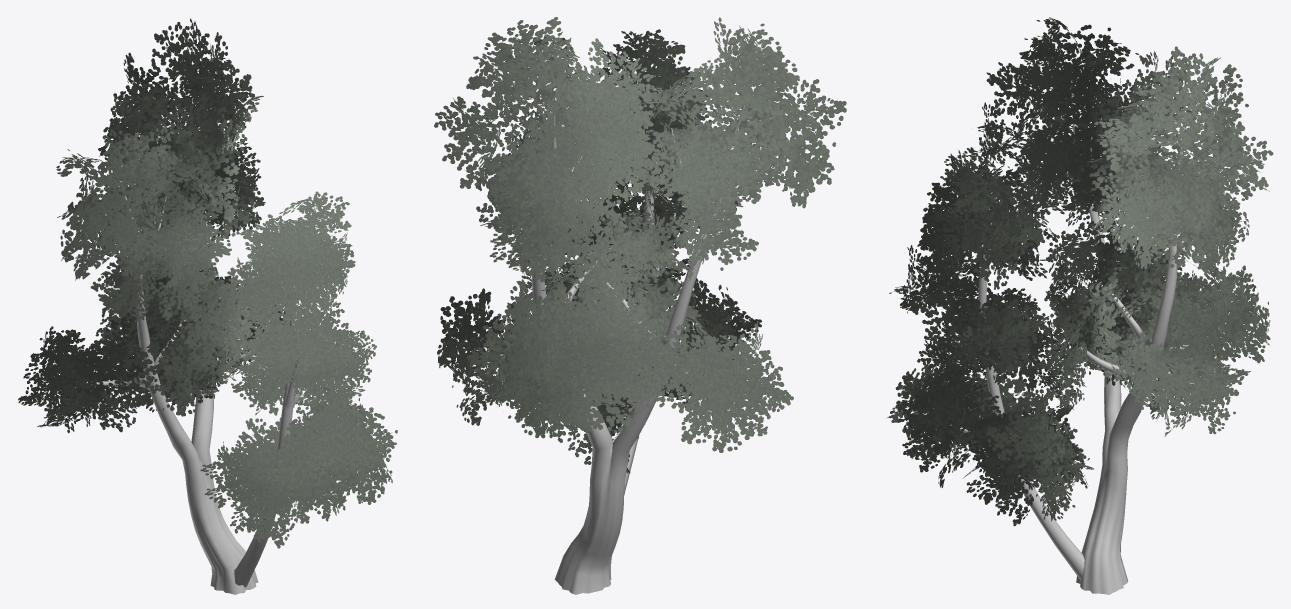
Rendered from SM_Tree_B_01.fbx.
3 views of the same model, side by side, from view 1: azimuth 30°, elevation 25°; view 2: azimuth 150°, elevation 25°; view 3: azimuth 270°, elevation 25° (orthographic). The views are drawn at different scales.
Parts seen in each view (by area): view 1: SM_Tree_B_01_LOD0; view 2: SM_Tree_B_01_LOD0; view 3: SM_Tree_B_01_LOD0.
Part boxes in pixels (x1,y1,x2,y2): SM_Tree_B_01_LOD0: (18,18,397,594); SM_Tree_B_01_LOD0: (434,17,846,594); SM_Tree_B_01_LOD0: (887,17,1273,594).
Size of what is drawn, in the model's own units: 7.83 by 12.92 by 8.66.
